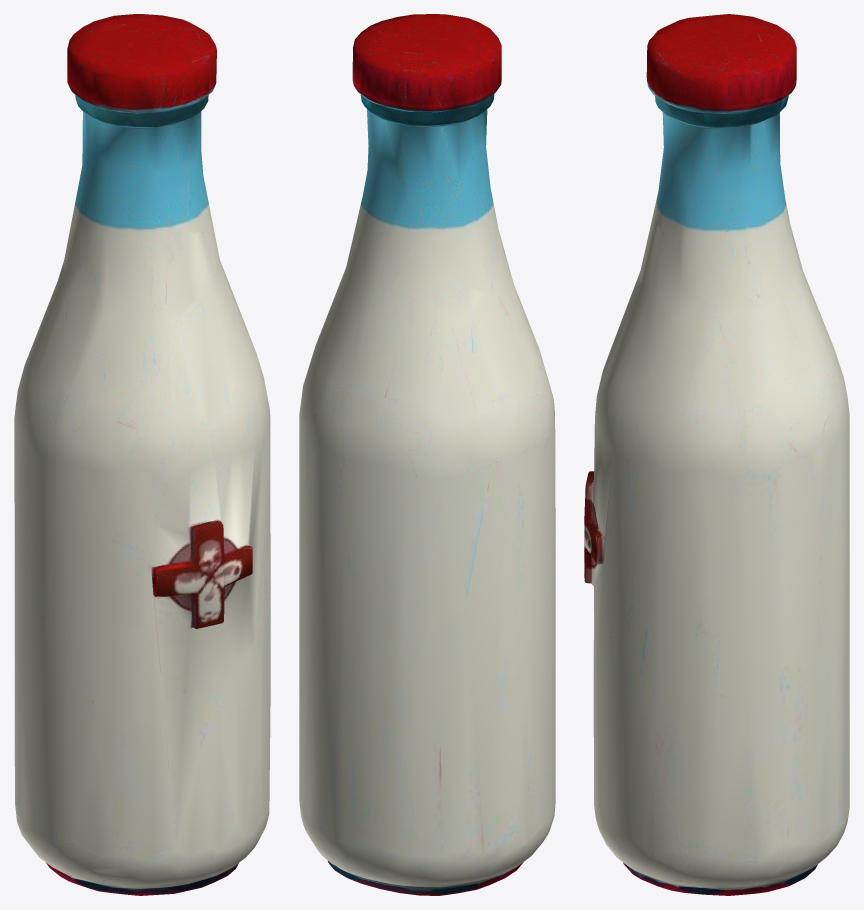
File: milk.glb
3 renders of one model, left to right at view 1: azimuth 30°, elevation 25°; view 2: azimuth 150°, elevation 25°; view 3: azimuth 270°, elevation 25°, orthographic.
Size of the model in its own units: 0.5416 by 1.91 by 0.5634.
1 material, 1 textured.
